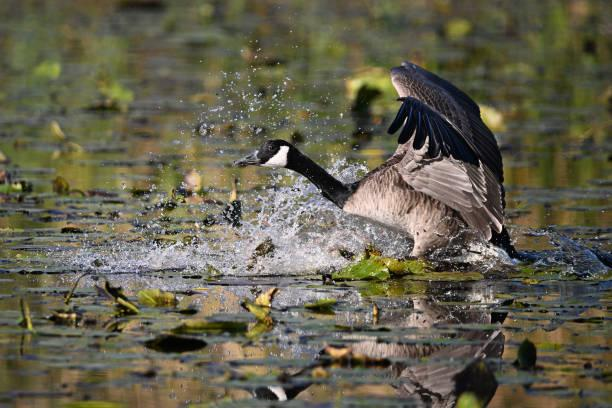Canadian-Goose: (233, 57, 510, 265)
